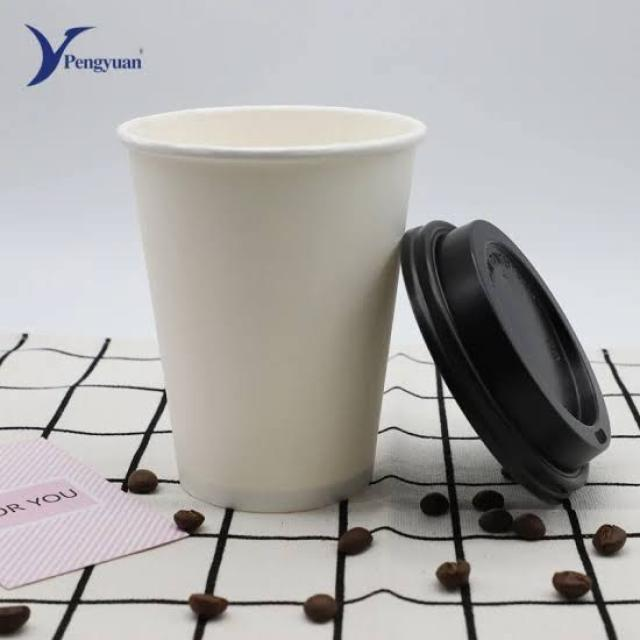paper cup: (94, 85, 412, 530)
